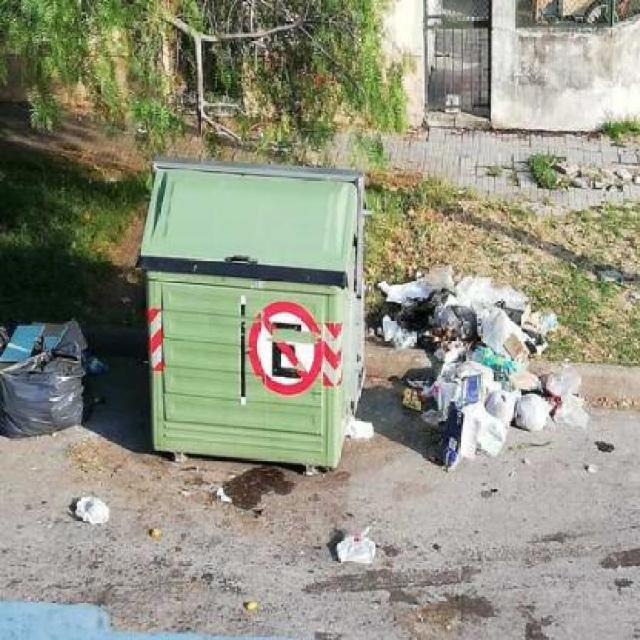garbage: (374, 251, 615, 511), (0, 263, 122, 470), (62, 480, 173, 547), (321, 525, 386, 584), (436, 72, 469, 134), (338, 403, 370, 454)
